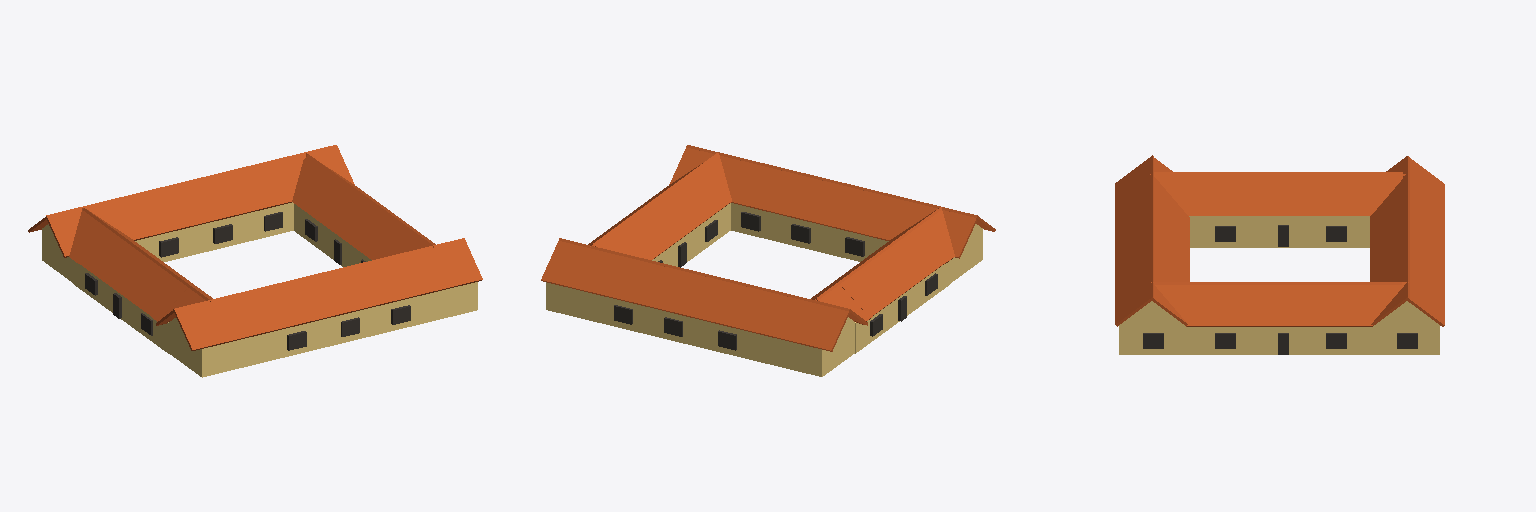
File: villa_byzantine.obj
3 renders of one model, left to right at view 1: azimuth 30°, elevation 25°; view 2: azimuth 150°, elevation 25°; view 3: azimuth 270°, elevation 25°, orthographic.
Visible parts, largest first — view 1: mesh[number redacted].001, mesh[number redacted], mesh[number redacted].002, mesh[number redacted], mesh[number redacted].002_mesh[number redacted].004, mesh[number redacted], mesh[number redacted].002, mesh[number redacted], mesh[number redacted].001, mesh[number redacted].001_mesh[number redacted].005; view 2: mesh[number redacted], mesh[number redacted].001, mesh[number redacted], mesh[number redacted], mesh[number redacted].002_mesh[number redacted].004, mesh[number redacted].002, mesh[number redacted].002, mesh[number redacted], mesh[number redacted], mesh[number redacted].001, mesh[number redacted].001, mesh[number redacted].001_mesh[number redacted].005 (+1 smaller); view 3: mesh[number redacted].001, mesh[number redacted], mesh[number redacted].001, mesh[number redacted], mesh[number redacted].002, mesh[number redacted], mesh[number redacted], mesh[number redacted].001, mesh[number redacted].002, mesh[number redacted], mesh[number redacted].004, mesh[number redacted] (+1 smaller).
Boxes of the visible parts, box(x1,y1,x2,y2) form: mesh[number redacted].001: box(173, 238, 482, 350); mesh[number redacted]: box(46, 145, 354, 257); mesh[number redacted].002: box(169, 282, 477, 377); mesh[number redacted]: box(292, 154, 432, 259); mesh[number redacted].002_mesh[number redacted].004: box(75, 227, 187, 320); mesh[number redacted]: box(42, 202, 293, 282); mesh[number redacted].002: box(73, 260, 168, 353); mesh[number redacted]: box(294, 204, 371, 266); mesh[number redacted].001: box(83, 208, 212, 300); mesh[number redacted].001_mesh[number redacted].005: box(69, 208, 104, 263); mesh[number redacted]: box(541, 241, 849, 351); mesh[number redacted].001: box(669, 147, 976, 258); mesh[number redacted]: box(546, 282, 854, 376); mesh[number redacted]: box(592, 153, 731, 259); mesh[number redacted].002_mesh[number redacted].004: box(840, 224, 952, 317); mesh[number redacted].002: box(731, 203, 982, 282); mesh[number redacted].002: box(855, 260, 950, 353); mesh[number redacted]: box(652, 203, 730, 266); mesh[number redacted]: box(559, 238, 867, 325); mesh[number redacted].001: box(686, 145, 995, 231); mesh[number redacted].001: box(811, 207, 941, 300); mesh[number redacted].001_mesh[number redacted].005: box(815, 285, 872, 324); mesh[number redacted].001: box(1154, 172, 1402, 215); mesh[number redacted]: box(1192, 285, 1372, 326); mesh[number redacted].001: box(1115, 155, 1153, 326); mesh[number redacted]: box(1406, 158, 1444, 326); mesh[number redacted].002: box(1189, 216, 1369, 247); mesh[number redacted]: box(1184, 325, 1374, 354); mesh[number redacted]: box(1370, 156, 1409, 325); mesh[number redacted].001: box(1151, 158, 1189, 326); mesh[number redacted].002: box(1119, 301, 1183, 354); mesh[number redacted]: box(1375, 301, 1439, 354); mesh[number redacted].004: box(1150, 282, 1191, 326); mesh[number redacted]: box(1153, 282, 1401, 284).
Bounding box in the file's own units: 1.46 × 0.2871 × 1.43.